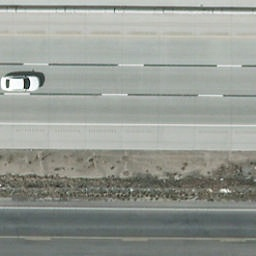car: (0, 73, 43, 93)
